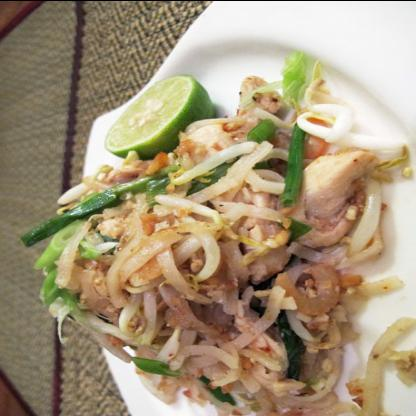Pad Thai: (43, 69, 415, 416)
